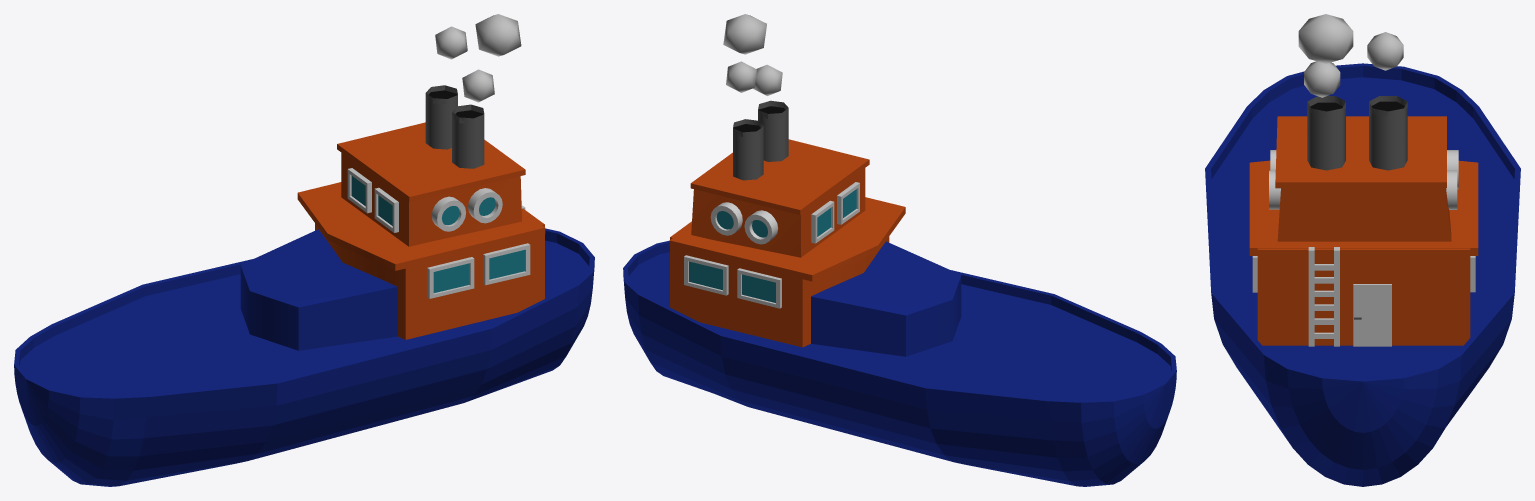
The model's file is HouseBoat_1384.obj.
3 renders of one model, left to right at view 1: azimuth 30°, elevation 25°; view 2: azimuth 150°, elevation 25°; view 3: azimuth 270°, elevation 25°, orthographic. The views are drawn at different scales.
Visible parts, largest first — view 1: GeoSphere002; view 2: GeoSphere002; view 3: GeoSphere002.
Boxes of the visible parts, bbox=[...] form: GeoSphere002: bbox=[14, 14, 594, 486]; GeoSphere002: bbox=[623, 14, 1176, 486]; GeoSphere002: bbox=[1205, 14, 1520, 486].
Bounding box in the file's own units: 133 × 88.02 × 55.64.
